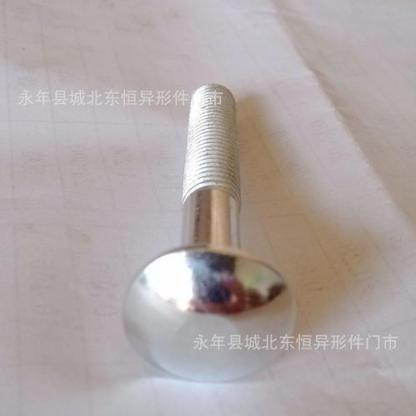FOD: (114, 82, 294, 386)
